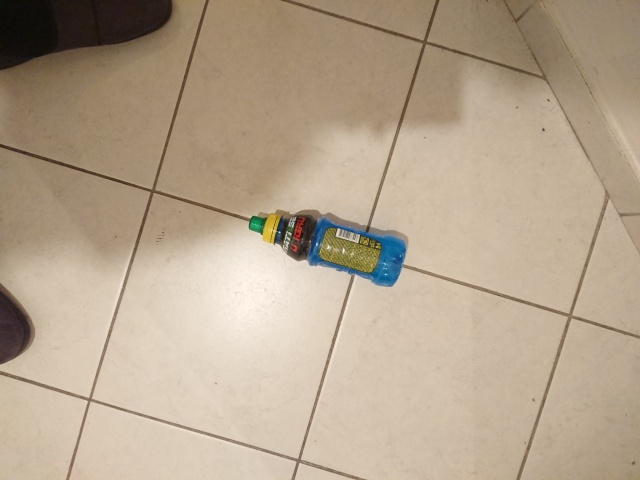Vindi Iso Sport Forest Strawberries 500mL: (247, 212, 408, 288)
